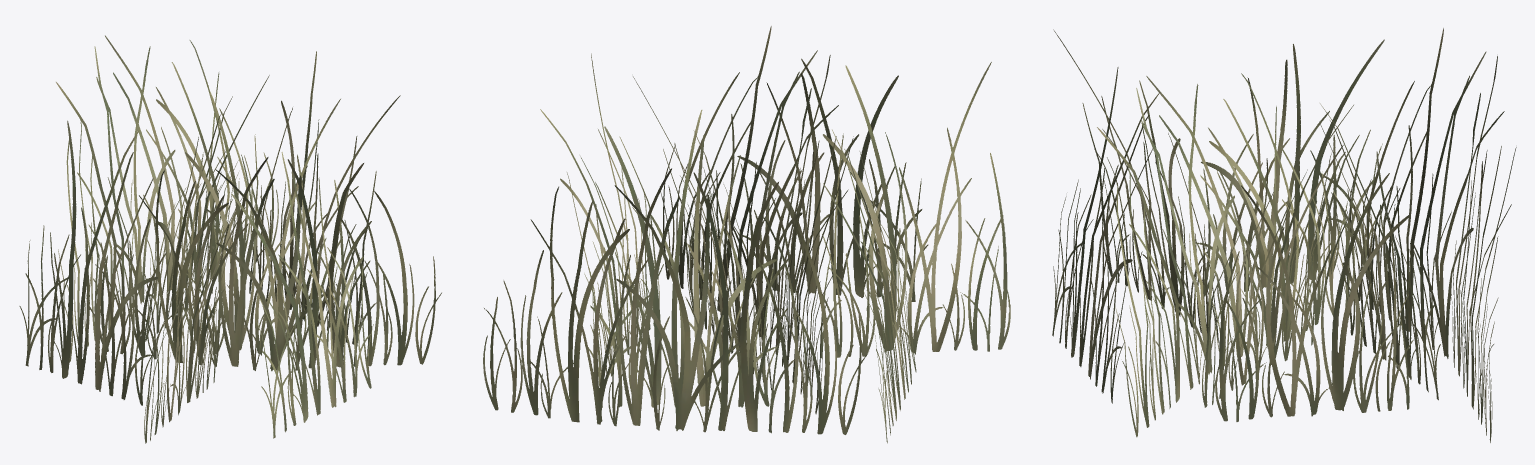
The model's file is Grass - Grass1 5-DzWLKrvF.glb.
The picture shows the model from 3 angles, left to right: view 1: azimuth 30°, elevation 25°; view 2: azimuth 150°, elevation 25°; view 3: azimuth 270°, elevation 25°; orthographic projection. The views are drawn at different scales.
Parts seen in each view (by area): view 1: Grass1_5_LOD0; view 2: Grass1_5_LOD0; view 3: Grass1_5_LOD0.
Boxes of the visible parts, box(x1,y1,x2,y2) form: Grass1_5_LOD0: box(19, 35, 441, 443); Grass1_5_LOD0: box(483, 26, 1010, 443); Grass1_5_LOD0: box(1052, 28, 1516, 442).
Size of the model in its own units: 0.9936 by 0.7768 by 1.09.
Materials: 1 (1 with a texture image).
